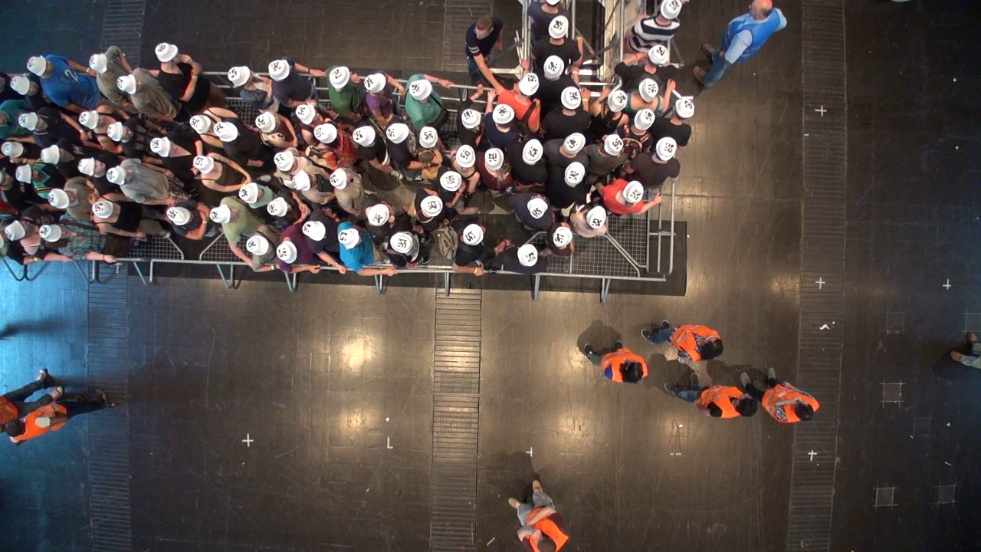head: (789, 399, 814, 425), (389, 233, 415, 254), (697, 334, 723, 355), (352, 126, 377, 146), (245, 236, 270, 256), (560, 88, 582, 110), (522, 141, 544, 163), (1, 415, 23, 437), (563, 163, 586, 184), (338, 226, 361, 247), (517, 75, 540, 96), (302, 221, 326, 241), (439, 172, 463, 192), (367, 205, 391, 225), (313, 124, 338, 143), (167, 208, 192, 227), (655, 138, 677, 159), (733, 392, 754, 414), (462, 225, 485, 245), (492, 105, 515, 125), (268, 60, 291, 80), (386, 124, 410, 143), (214, 123, 238, 142), (228, 67, 252, 86), (562, 134, 586, 153), (92, 201, 116, 220), (40, 225, 65, 243), (455, 147, 476, 168), (638, 79, 660, 99), (543, 57, 565, 77), (647, 46, 669, 66), (420, 197, 443, 216), (621, 361, 644, 380), (19, 113, 43, 131), (192, 157, 216, 175), (208, 206, 232, 224), (484, 149, 505, 169), (548, 18, 569, 38), (623, 182, 644, 202), (607, 91, 628, 111), (460, 110, 482, 129), (517, 245, 539, 264), (527, 198, 549, 217), (267, 198, 289, 217), (633, 110, 655, 129), (255, 113, 277, 132), (274, 152, 296, 171), (552, 227, 574, 246), (276, 242, 298, 261), (239, 184, 261, 203), (48, 189, 70, 208), (149, 138, 172, 156), (364, 74, 387, 92), (105, 123, 128, 141), (328, 68, 351, 86), (419, 128, 439, 148), (474, 18, 494, 38), (603, 135, 624, 154), (674, 100, 695, 119), (155, 44, 177, 62), (410, 80, 432, 98), (294, 105, 316, 123), (10, 76, 32, 94), (4, 222, 26, 240), (750, 1, 772, 19), (189, 116, 212, 133), (89, 54, 110, 72), (586, 207, 607, 225), (27, 56, 48, 74), (79, 111, 101, 128), (659, 2, 681, 19), (106, 167, 129, 183), (1, 142, 24, 158), (291, 172, 311, 190), (117, 75, 138, 92), (41, 147, 62, 164), (78, 158, 100, 174), (535, 534, 554, 552), (330, 170, 349, 187), (14, 166, 34, 182), (1, 111, 9, 126)
